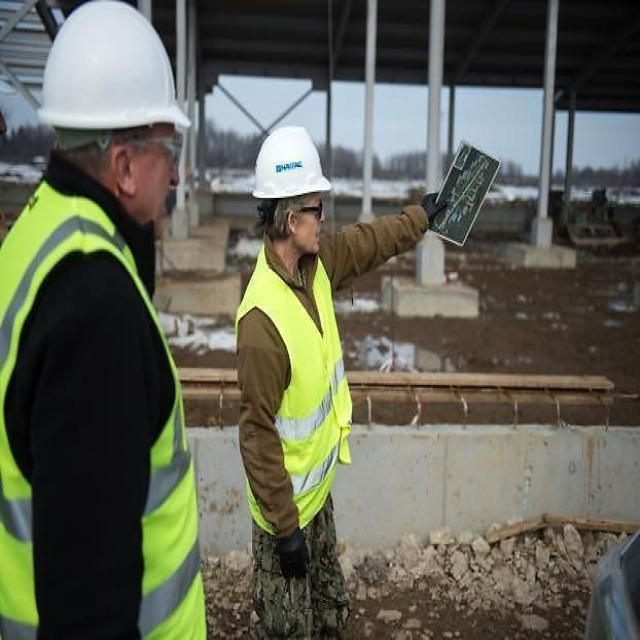Vest: (3, 195, 203, 598), (234, 244, 357, 536)
